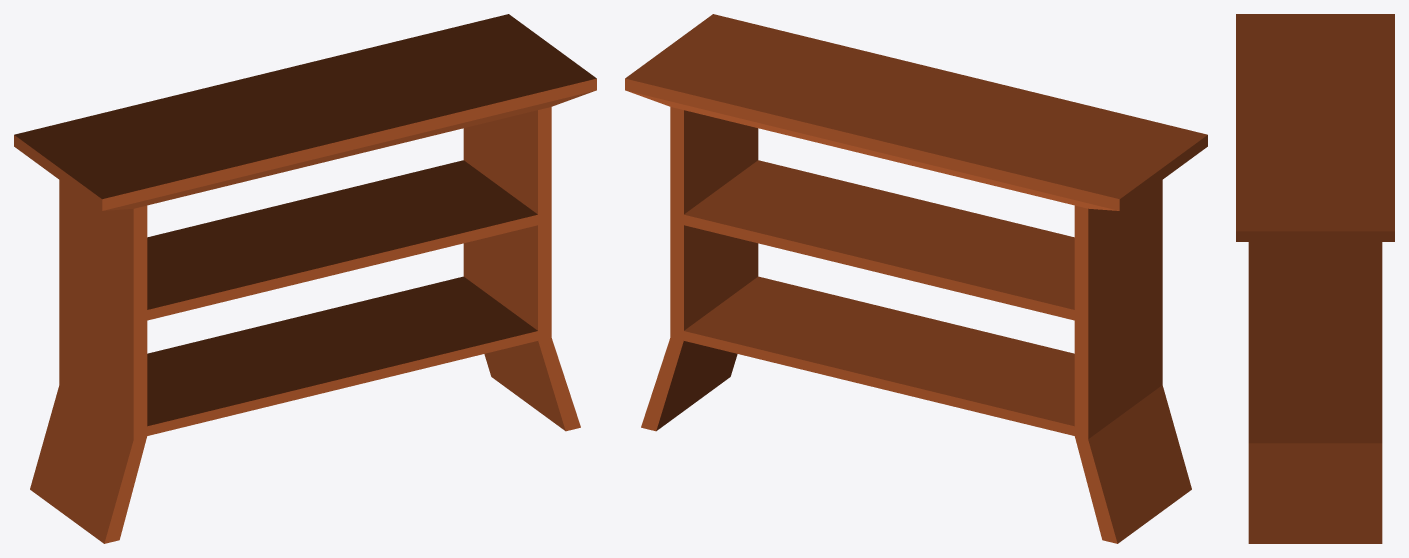
The model's file is Shelf 8.fbx.
3 renders of one model, left to right at view 1: azimuth 30°, elevation 25°; view 2: azimuth 150°, elevation 25°; view 3: azimuth 270°, elevation 25°, orthographic. The views are drawn at different scales.
Parts seen in each view (by area): view 1: Node 0; view 2: Node 0; view 3: Node 0.
Part boxes in pixels (x1,y1,x2,y2): Node 0: (14, 14, 596, 543); Node 0: (625, 14, 1207, 543); Node 0: (1236, 14, 1394, 543).
Bounding box in the file's own units: 0.4655 × 1.03 × 1.51.
